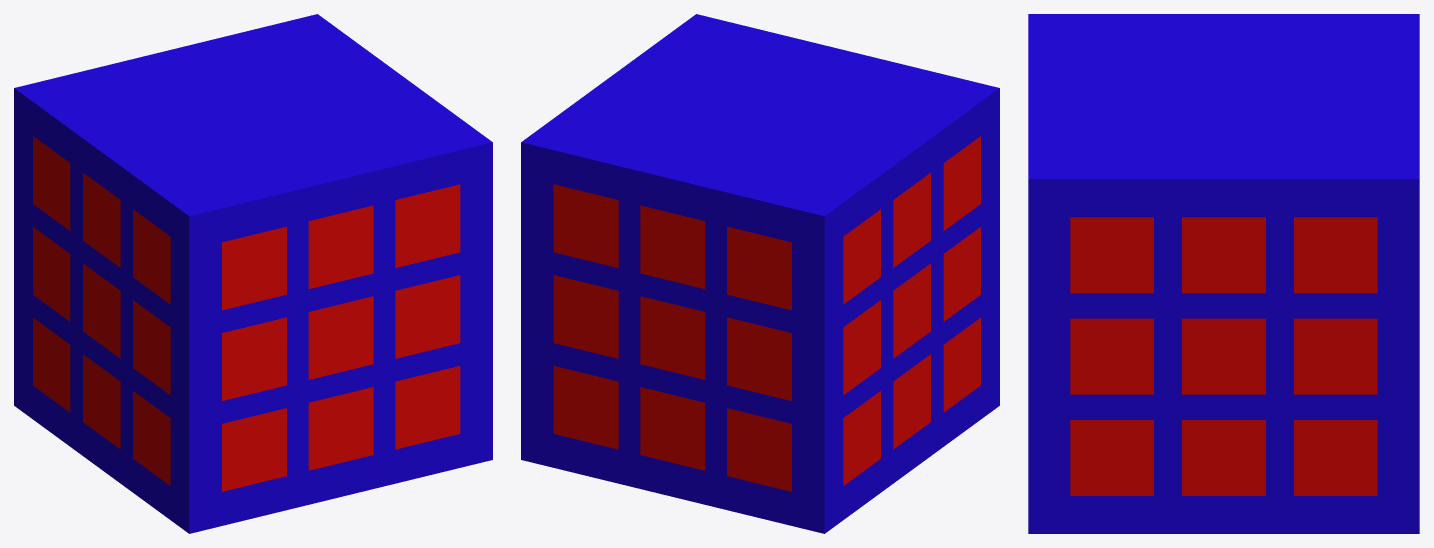
Rendered from BuildingTemplate.fbx.
The picture shows the model from 3 angles, left to right: view 1: azimuth 30°, elevation 25°; view 2: azimuth 150°, elevation 25°; view 3: azimuth 270°, elevation 25°; orthographic projection. The views are drawn at different scales.
Parts seen in each view (by area): view 1: StandardCube; view 2: StandardCube; view 3: StandardCube.
Boxes of the visible parts, bbox=[...] form: StandardCube: bbox=[14, 14, 492, 533]; StandardCube: bbox=[521, 14, 999, 533]; StandardCube: bbox=[1028, 14, 1419, 533].
Size of the model in its own units: 2398 by 2398 by 2398.
